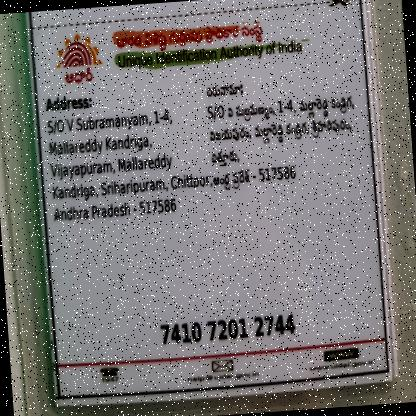aadhaar_card: (24, 0, 401, 410)
